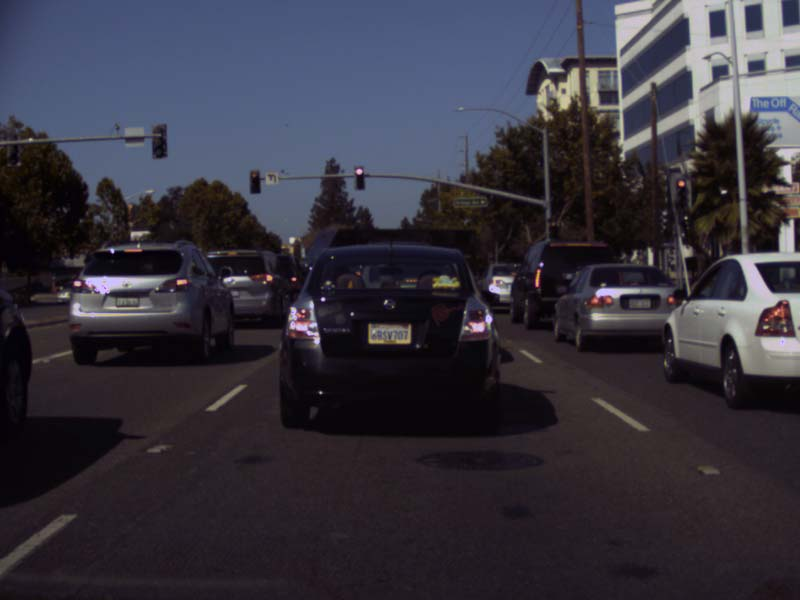Red: (675, 180, 686, 209), (354, 165, 365, 189), (250, 170, 259, 193), (550, 219, 557, 238)
